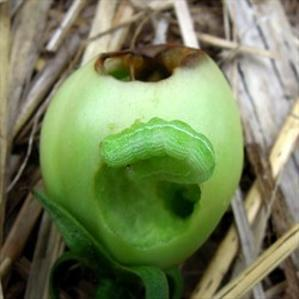Cotton bollworm: (87, 106, 221, 221)
